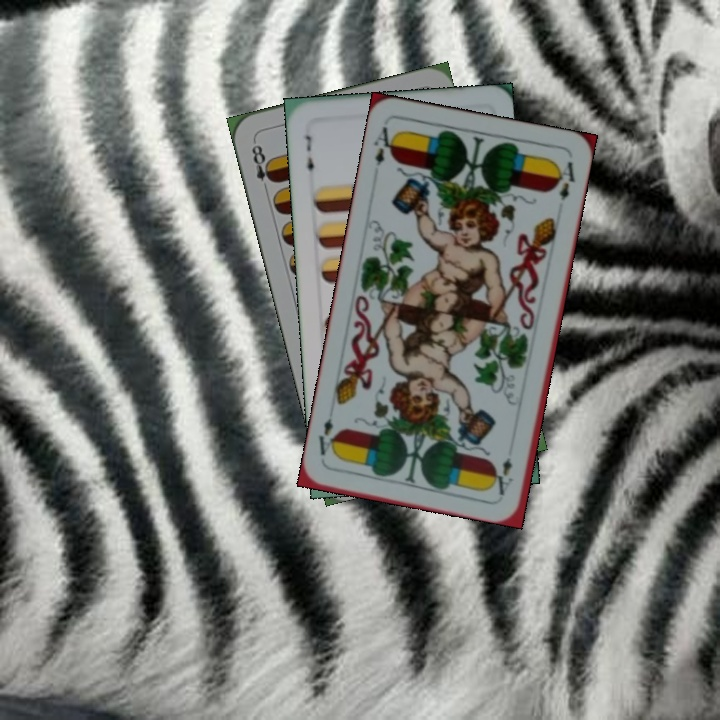E7: (301, 131, 317, 181)
E8: (247, 136, 278, 195)
EA: (370, 122, 400, 169), (494, 453, 515, 498)
